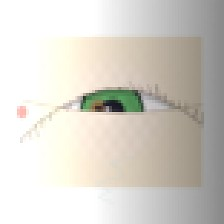foreign_body_visible: (166, 115, 186, 131)
